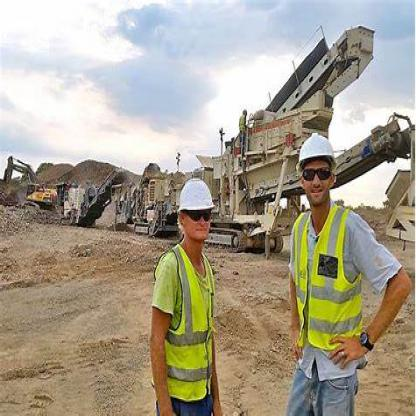person: (278, 130, 408, 415), (144, 171, 223, 415)
